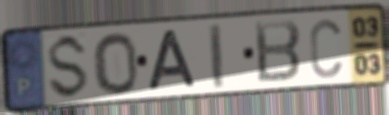A: (145, 28, 199, 92)
B: (252, 18, 303, 86)
C: (307, 17, 344, 81)
I: (207, 21, 227, 91)
O: (90, 30, 140, 96)
S: (45, 32, 91, 102)
